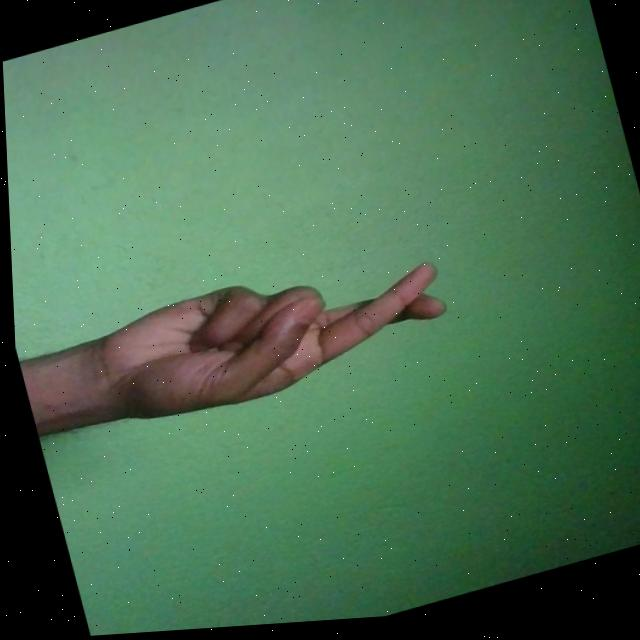Good Luck: (77, 235, 455, 441)
